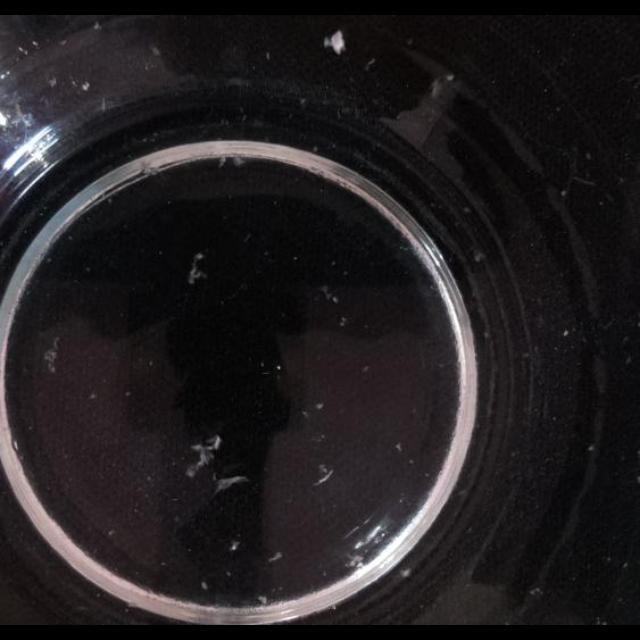Fibre: (188, 434, 224, 476), (188, 253, 208, 285), (43, 341, 61, 375), (312, 465, 333, 485), (346, 553, 366, 569), (230, 156, 246, 168), (268, 552, 282, 562), (218, 156, 228, 168), (150, 44, 160, 56)
microbeads: (324, 32, 346, 54), (228, 540, 240, 552), (399, 568, 411, 578), (338, 316, 348, 326), (257, 594, 267, 604), (314, 402, 324, 410), (200, 581, 208, 591), (394, 442, 402, 452), (108, 528, 116, 538), (89, 391, 97, 399), (587, 444, 595, 452), (82, 82, 90, 90), (560, 189, 568, 197), (361, 365, 369, 373), (124, 390, 130, 398), (563, 329, 569, 337), (332, 296, 338, 304), (275, 364, 281, 370)
